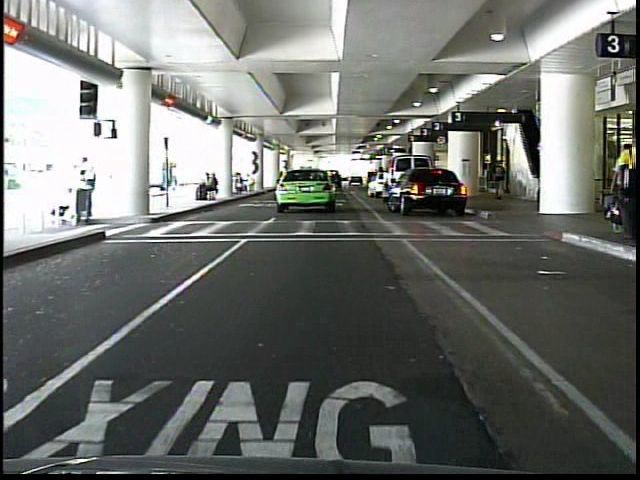person: (75, 155, 108, 231), (492, 159, 506, 202)
